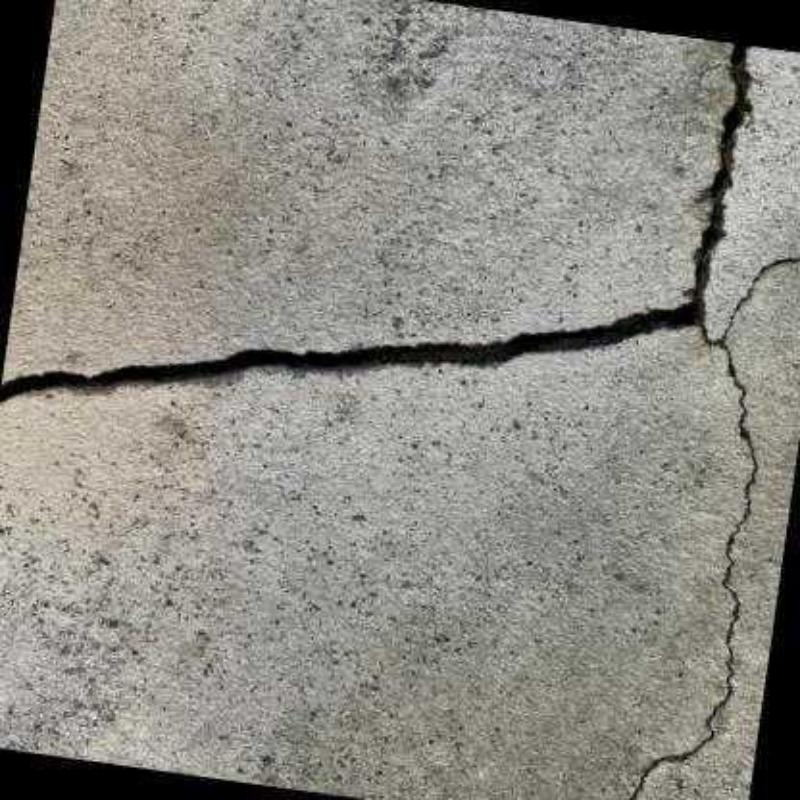pothole: (0, 42, 761, 413), (613, 247, 800, 800)
